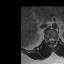CCS_normal: (50, 35, 52, 44)
LFS_normal: (54, 35, 56, 42)
LLS_normal: (52, 35, 54, 43)
RFS_normal: (46, 37, 48, 44)
RLS_normal: (48, 36, 50, 44)
